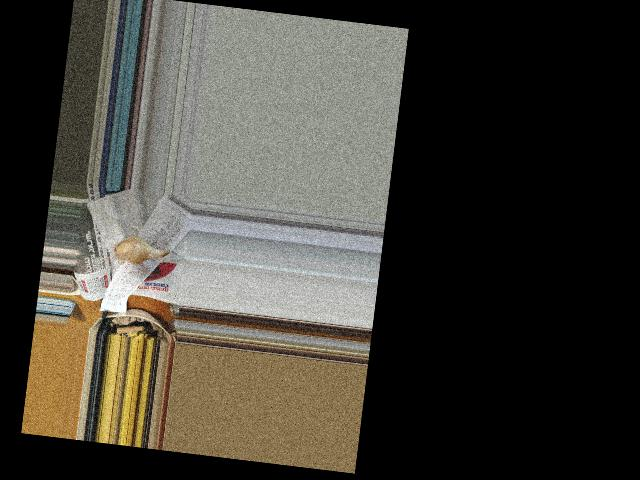onion: (114, 237, 152, 265)
